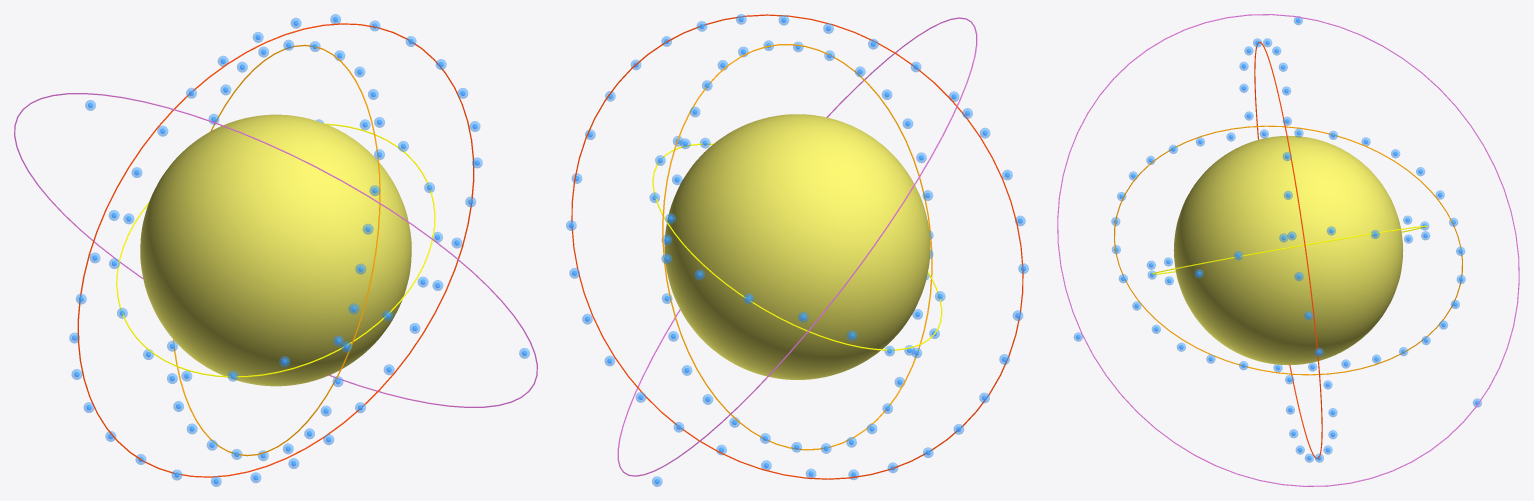
The picture shows the model from 3 angles, left to right: view 1: azimuth 30°, elevation 25°; view 2: azimuth 150°, elevation 25°; view 3: azimuth 270°, elevation 25°; orthographic projection. The views are drawn at different scales.
Visible parts, largest first — view 1: Am, object 126, object 191, object 61, object 24; view 2: Am, object 126, object 61, object 191, object 24; view 3: Am, object 191, object 61, object 126, object 24.
Part boxes in pixels (x1,y1,x2,y2): Am: [140, 114, 411, 386]; object 126: [77, 23, 474, 477]; object 191: [14, 93, 537, 407]; object 61: [173, 44, 380, 456]; object 24: [116, 123, 435, 377]; Am: [664, 114, 930, 379]; object 126: [571, 14, 1023, 479]; object 61: [662, 44, 932, 450]; object 191: [617, 17, 977, 476]; object 24: [652, 143, 942, 350]; Am: [1173, 135, 1403, 365]; object 191: [1057, 14, 1519, 486]; object 61: [1114, 125, 1462, 375]; object 126: [1254, 41, 1322, 458]; object 24: [1151, 225, 1426, 274].
Bounding box in the file's own units: 7.28 × 7.35 × 7.92.
